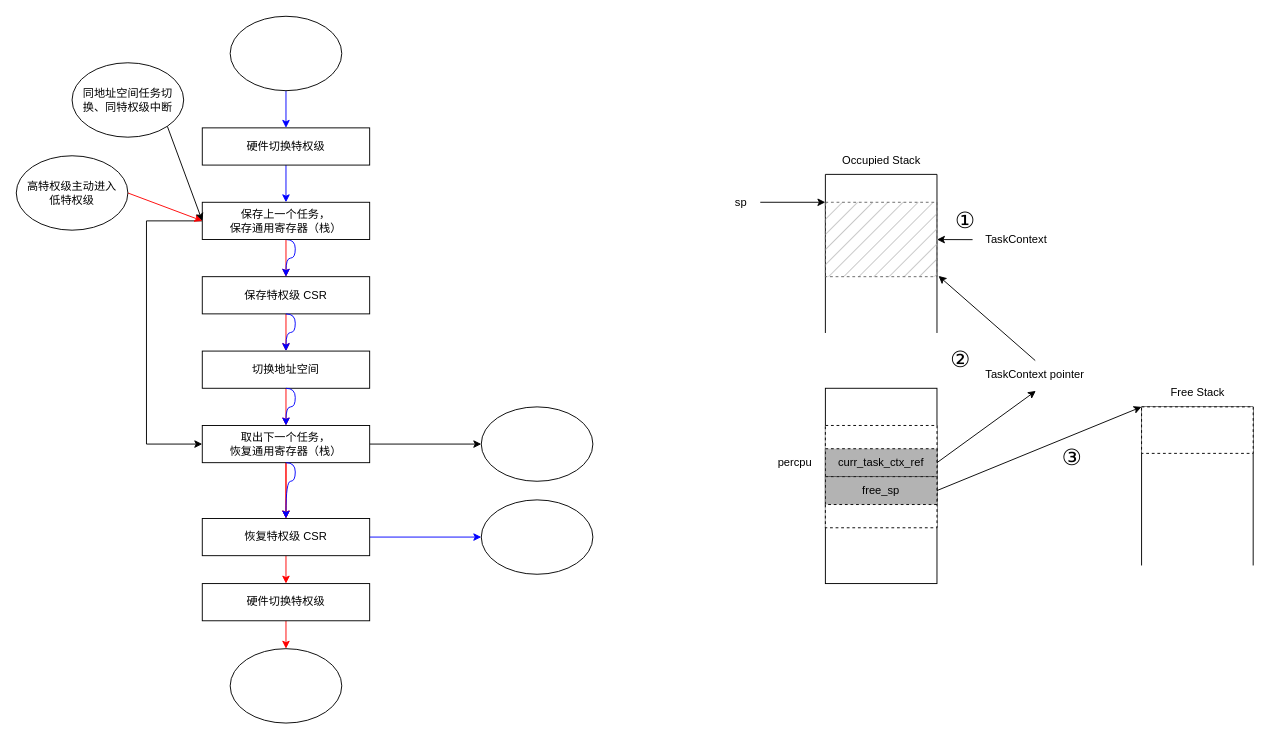
This 1269x739 diagram has some shape labels left out. Each missing label, with the centre of its shape:
"schedule_fn" belongs at point 1197,429.
"低特权级进入 高特权级" belongs at point 285,53.
"出口1" belongs at point 536,443.
"出口2" belongs at point 536,536.
"出口3" belongs at point 285,685.
